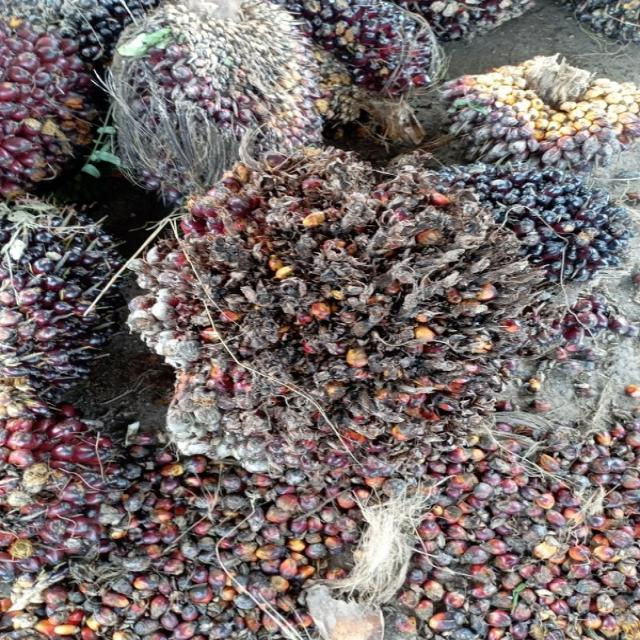fraksi 00: (93, 0, 374, 196)
fraksi 4: (90, 99, 570, 504)
